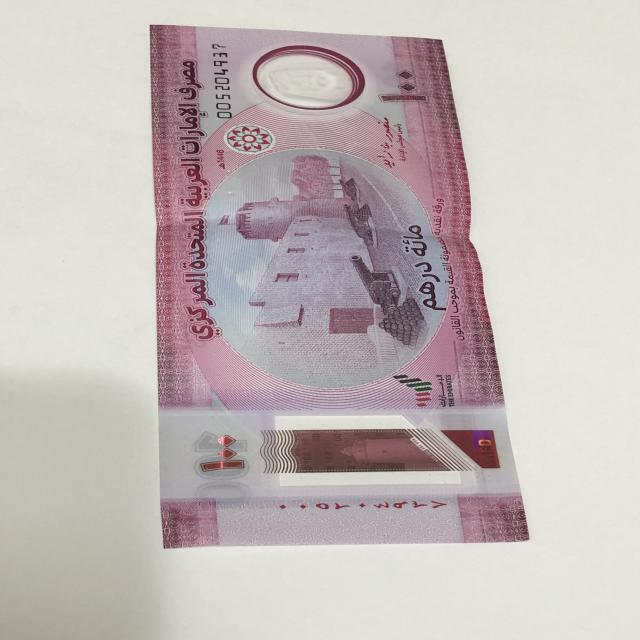100_AED: (147, 24, 546, 554)
